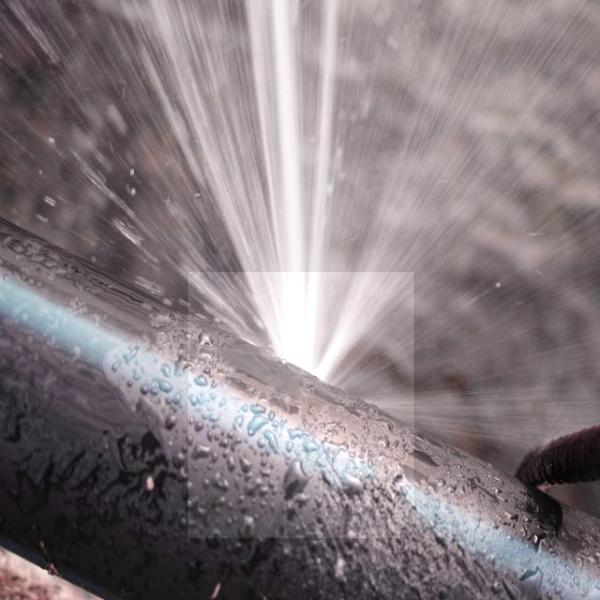water: (188, 272, 414, 538)
